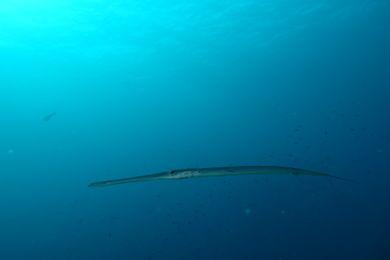Fistularia commersonii: (86, 163, 358, 188)
